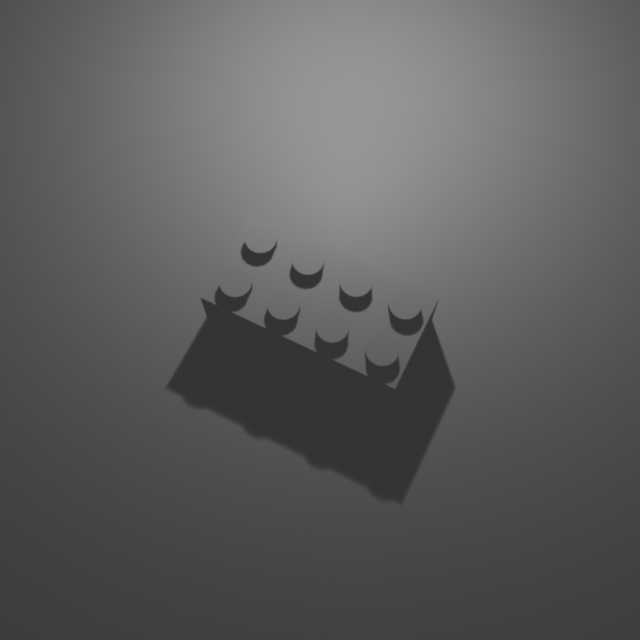lego_2x4: (199, 207, 441, 407)
